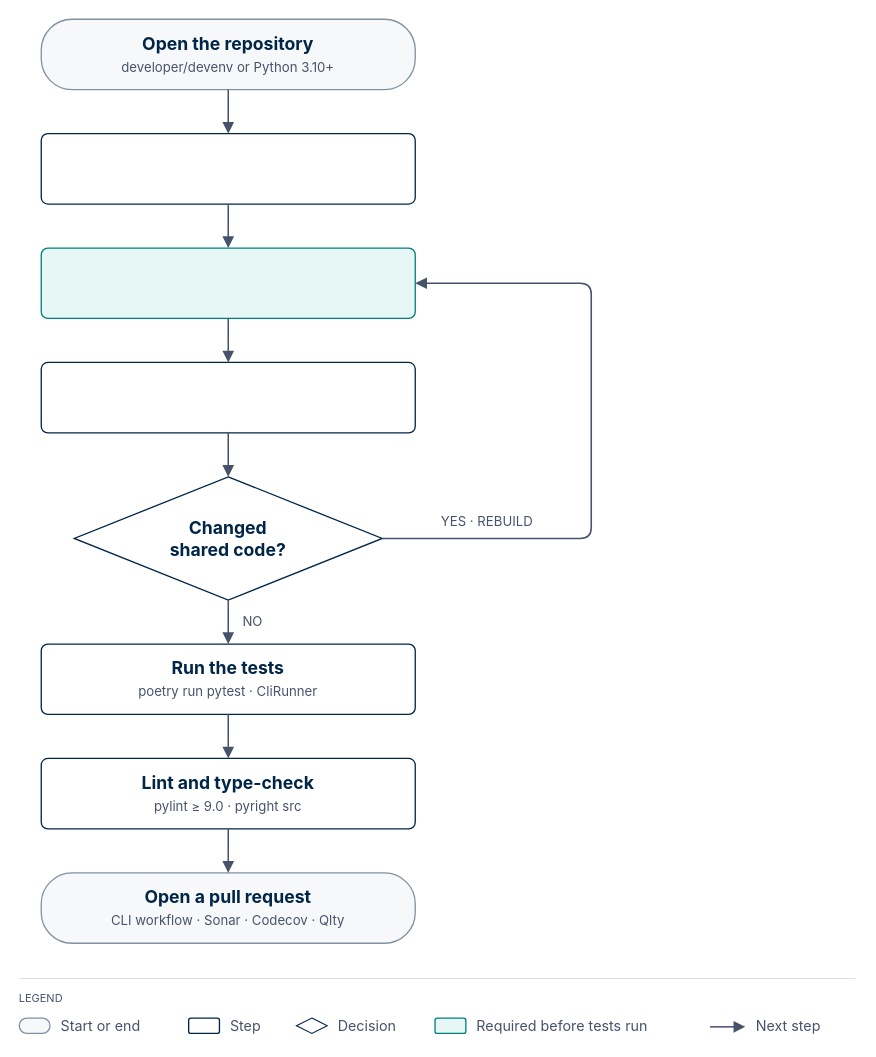
The diagram is 876 pixels wide and 1057 high, and some of its shapes have lost their labels. The shapes that lost their labels are listed below. From the top down, each one's centre as x and y in pixels, then its label:
At point (227, 168): "Install cd cli · poetry install".
At point (227, 283): "Vendor shared code poetry run python src/pkg/build.py".
At point (227, 397): "Read the code cmd.py · cmd_*.py · pkg/config.py".
